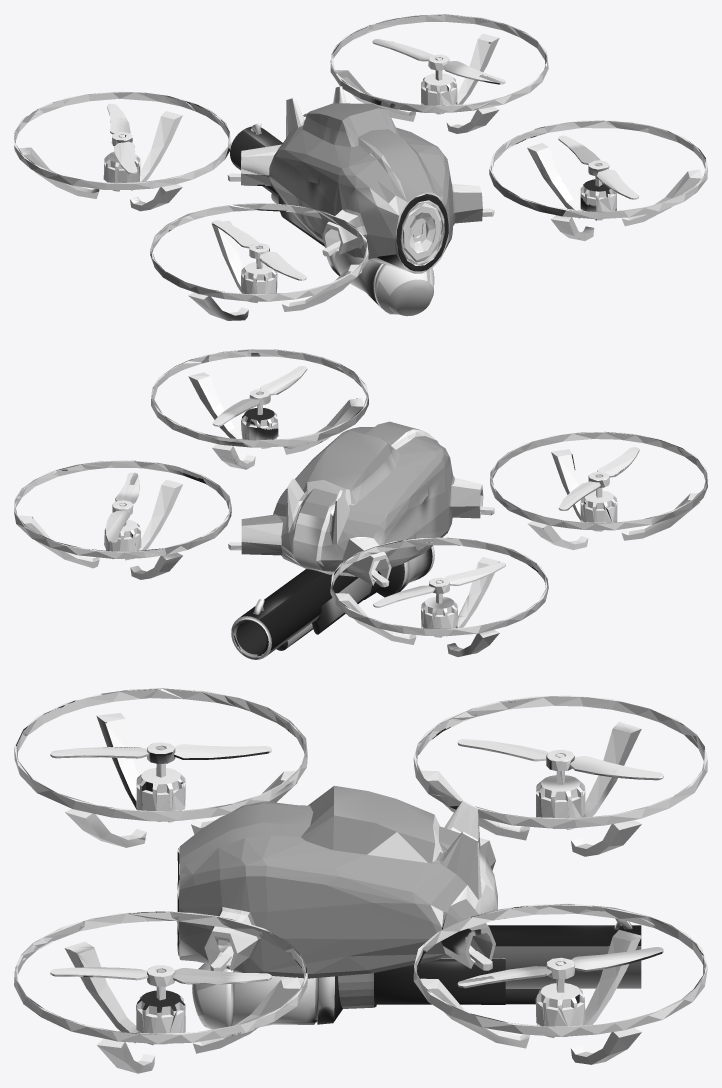
Rendered from Player.obj.
3 renders of one model, top to bottom at view 1: azimuth 30°, elevation 25°; view 2: azimuth 150°, elevation 25°; view 3: azimuth 270°, elevation 25°, orthographic. The views are drawn at different scales.
Parts seen in each view (by area): view 1: Drone_X-Black_Drone__-_Drone-1; view 2: Drone_X-Black_Drone__-_Drone-1; view 3: Drone_X-Black_Drone__-_Drone-1.
Boxes of the visible parts, box(x1,y1,x2,y2) form: Drone_X-Black_Drone__-_Drone-1: box(14, 14, 707, 320); Drone_X-Black_Drone__-_Drone-1: box(14, 349, 707, 659); Drone_X-Black_Drone__-_Drone-1: box(14, 688, 707, 1073).
Size of the model in its own units: 5.19 by 1.62 by 4.38.
Materials: 1 (1 with a texture image).
